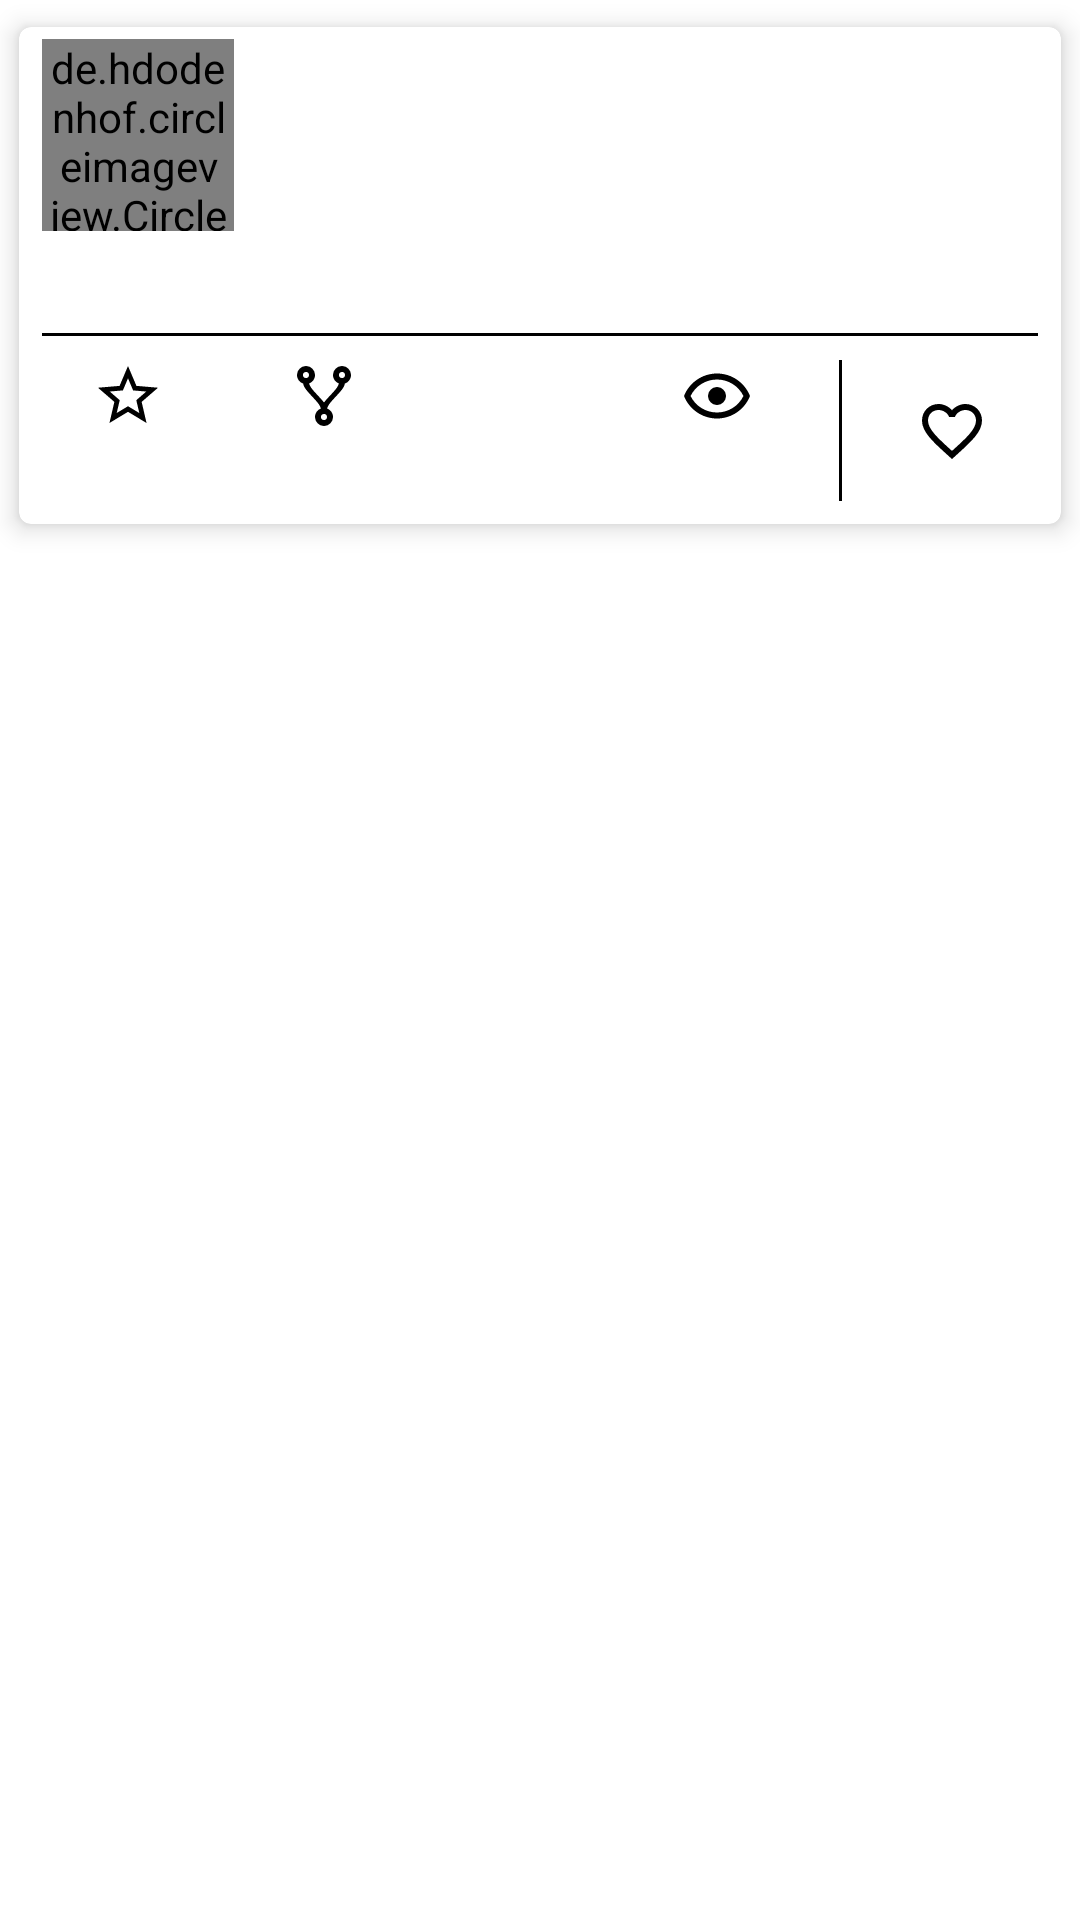

Screen size 1080 x 1920. Icon name, then its center in pixels as [x,y]:
favorite no: [952,431]
